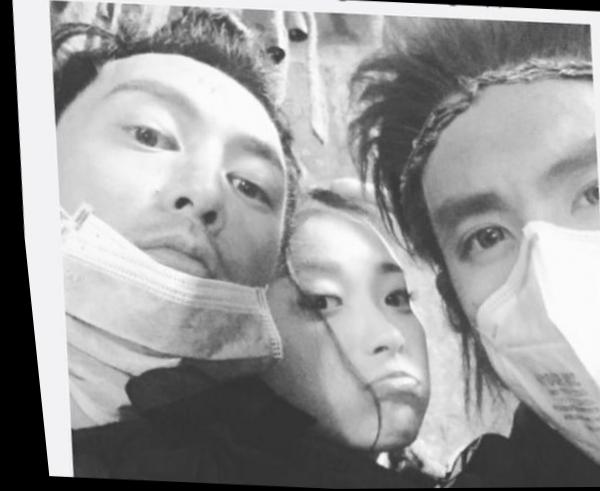NONE: (255, 234, 432, 454)
OK: (395, 123, 600, 477)
WRONG: (44, 104, 301, 343)
